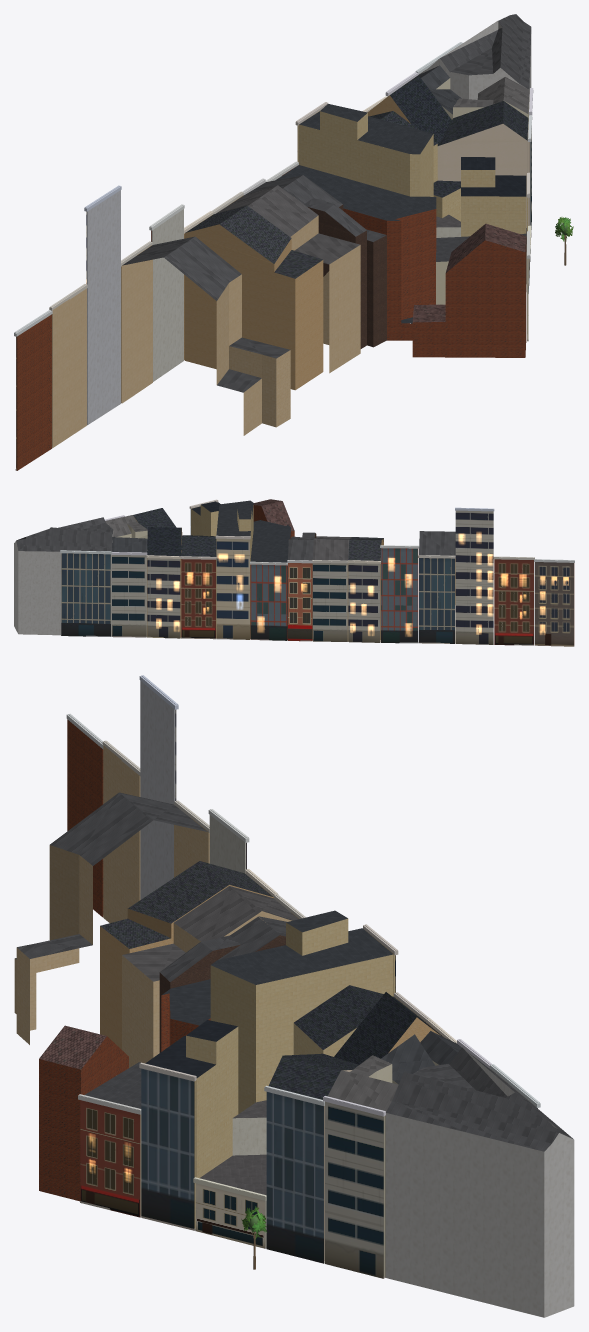
3 renders of one model, top to bottom at view 1: azimuth 30°, elevation 25°; view 2: azimuth 150°, elevation 25°; view 3: azimuth 270°, elevation 25°, orthographic. The views are drawn at different scales.
Visible parts, largest first — view 1: bldg_6006413824, bldg_6004521093, bldg_6004521020, bldg_6006413756_facade0, bldg_6006413710, bldg_6006384007, bldg_6004520988_facade0, bldg_6006413755_facade0, bldg_6006413776, bldg_6006384091_facade0, bldg_6004521020_roof, bldg_6006413777 (+17 smaller); view 2: bldg_6006413756_facade0, bldg_6004521154_facade0, bldg_6004521154, bldg_6006384091_facade0, bldg_6004520988_facade0, bldg_6006413755_facade0, bldg_6006413710_facade0, bldg_6004521020_facade0, bldg_6006384018_facade0, bldg_6006384007_facade0, bldg_6006413860_facade0, bldg_6006413776_facade0 (+19 smaller); view 3: bldg_6004521154, bldg_6006413710, bldg_6006387186_facade0, bldg_6006413987_facade0, bldg_6004521154_roof, bldg_6004521121_facade0, bldg_6004521020, bldg_6004521093, bldg_6006384100_facade0, bldg_6006413756_facade0, bldg_6004521020_roof, bldg_6004521121 (+24 smaller).
Boxes of the visible parts, x1=… form: bldg_6006413824: x1=185, y1=224, x2=323, y2=390; bldg_6004521093: x1=412, y1=237, x2=526, y2=357; bldg_6004521020: x1=122, y1=259, x2=290, y2=435; bldg_6006413756_facade0: x1=84, y1=185, x2=121, y2=425; bldg_6006413710: x1=299, y1=111, x2=433, y2=196; bldg_6006384007: x1=343, y1=208, x2=436, y2=340; bldg_6004520988_facade0: x1=14, y1=310, x2=52, y2=470; bldg_6006413755_facade0: x1=49, y1=284, x2=87, y2=448; bldg_6006413776: x1=290, y1=215, x2=360, y2=373; bldg_6006384091_facade0: x1=149, y1=204, x2=184, y2=381; bldg_6004521020_roof: x1=122, y1=236, x2=290, y2=392; bldg_6006413777: x1=283, y1=187, x2=386, y2=348; bldg_6006413756_facade0: x1=455, y1=507, x2=494, y2=644; bldg_6004521154_facade0: x1=60, y1=550, x2=111, y2=636; bldg_6004521154: x1=14, y1=531, x2=113, y2=636; bldg_6006384091_facade0: x1=380, y1=545, x2=419, y2=643; bldg_6004520988_facade0: x1=534, y1=559, x2=574, y2=646; bldg_6006413755_facade0: x1=493, y1=556, x2=534, y2=645; bldg_6006413710_facade0: x1=215, y1=535, x2=250, y2=639; bldg_6004521020_facade0: x1=418, y1=555, x2=455, y2=643; bldg_6006384018_facade0: x1=111, y1=552, x2=147, y2=637; bldg_6006384007_facade0: x1=250, y1=561, x2=287, y2=640; bldg_6006413860_facade0: x1=180, y1=556, x2=216, y2=639; bldg_6006413776_facade0: x1=312, y1=560, x2=348, y2=641; bldg_6004521154: x1=385, y1=1047, x2=574, y2=1317; bldg_6006413710: x1=210, y1=918, x2=393, y2=1113; bldg_6006387186_facade0: x1=323, y1=1096, x2=385, y2=1278; bldg_6006413987_facade0: x1=264, y1=1085, x2=324, y2=1263; bldg_6004521154_roof: x1=386, y1=1047, x2=572, y2=1151; bldg_6004521121_facade0: x1=139, y1=1062, x2=196, y2=1230; bldg_6004521020: x1=14, y1=824, x2=208, y2=1044; bldg_6004521093: x1=39, y1=1036, x2=128, y2=1201; bldg_6006384100_facade0: x1=78, y1=1094, x2=141, y2=1217; bldg_6006413756_facade0: x1=139, y1=675, x2=178, y2=899; bldg_6004521020_roof: x1=15, y1=792, x2=207, y2=959; bldg_6004521121: x1=186, y1=1027, x2=238, y2=1177.
Size of the model in its own units: 88 by 25.99 by 48.23.
Materials: 53 (27 with a texture image).
